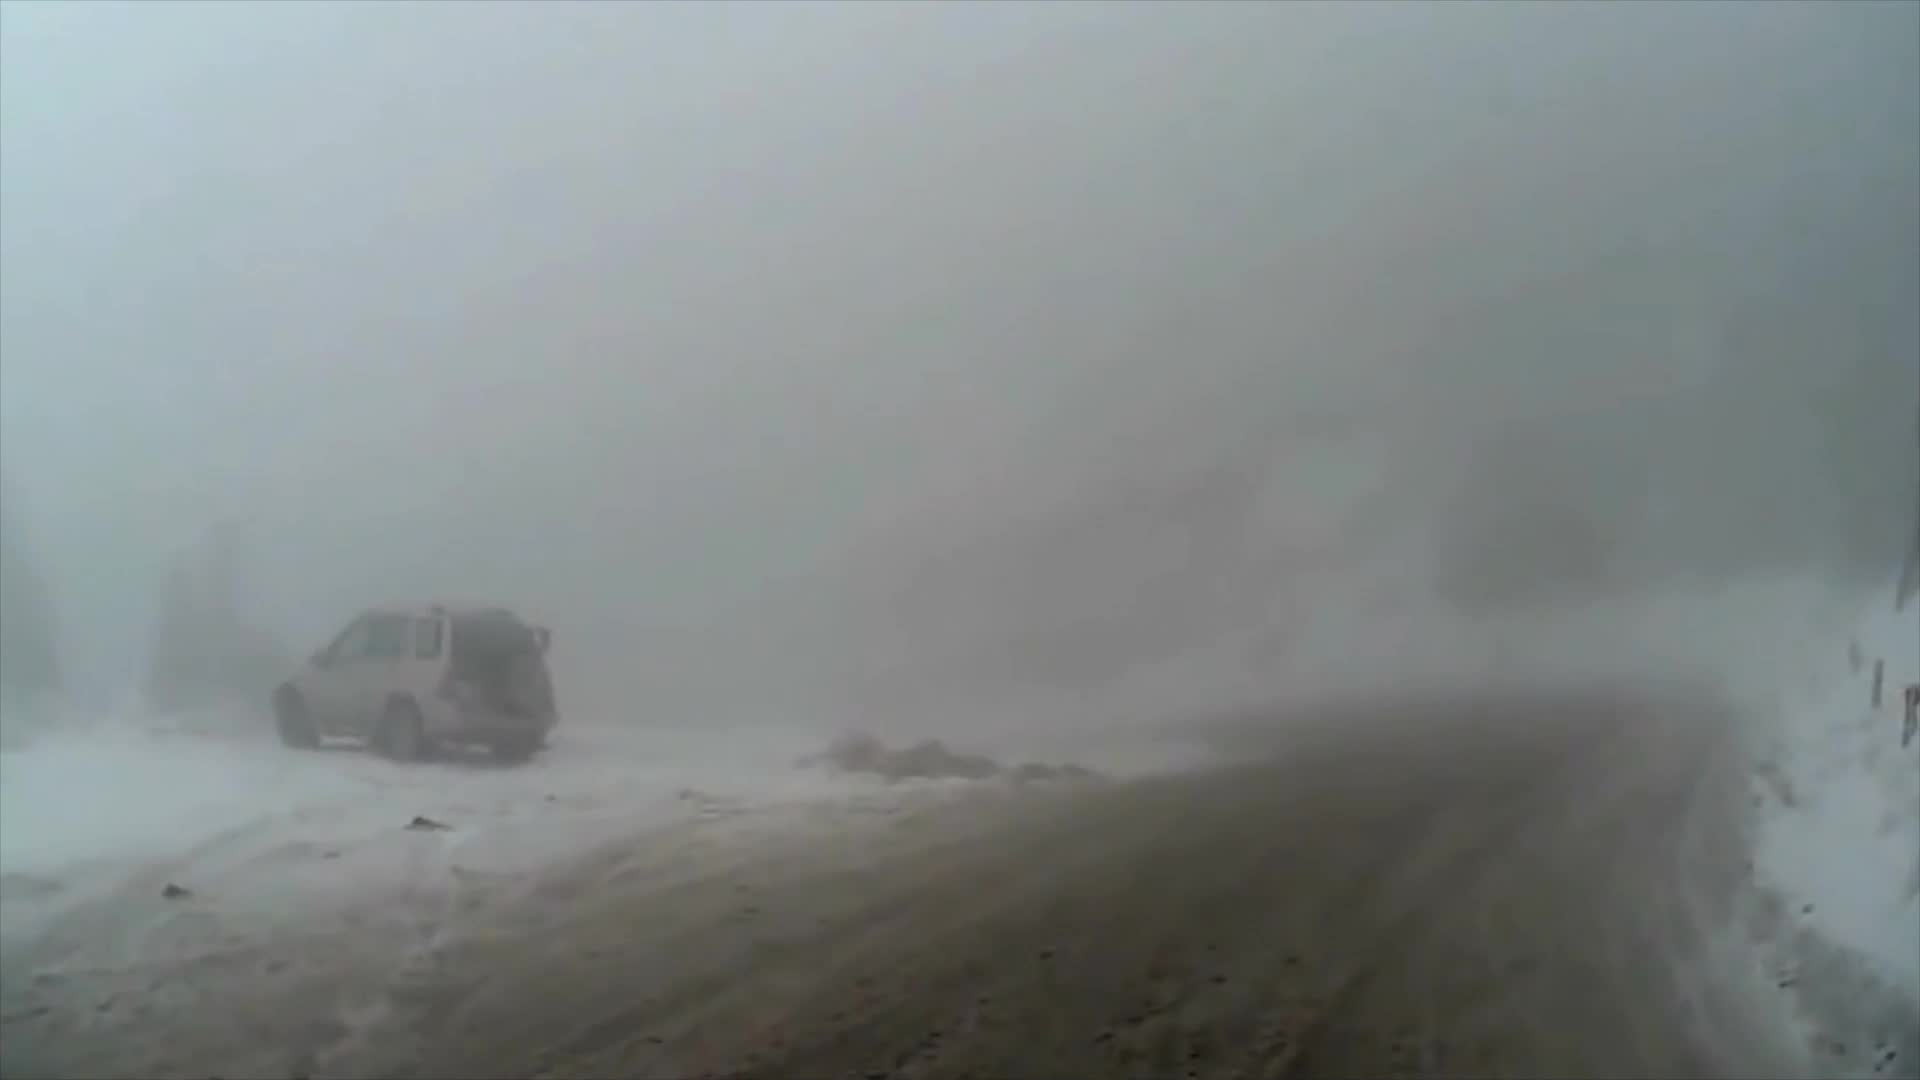vehicle: (266, 597, 551, 767)
